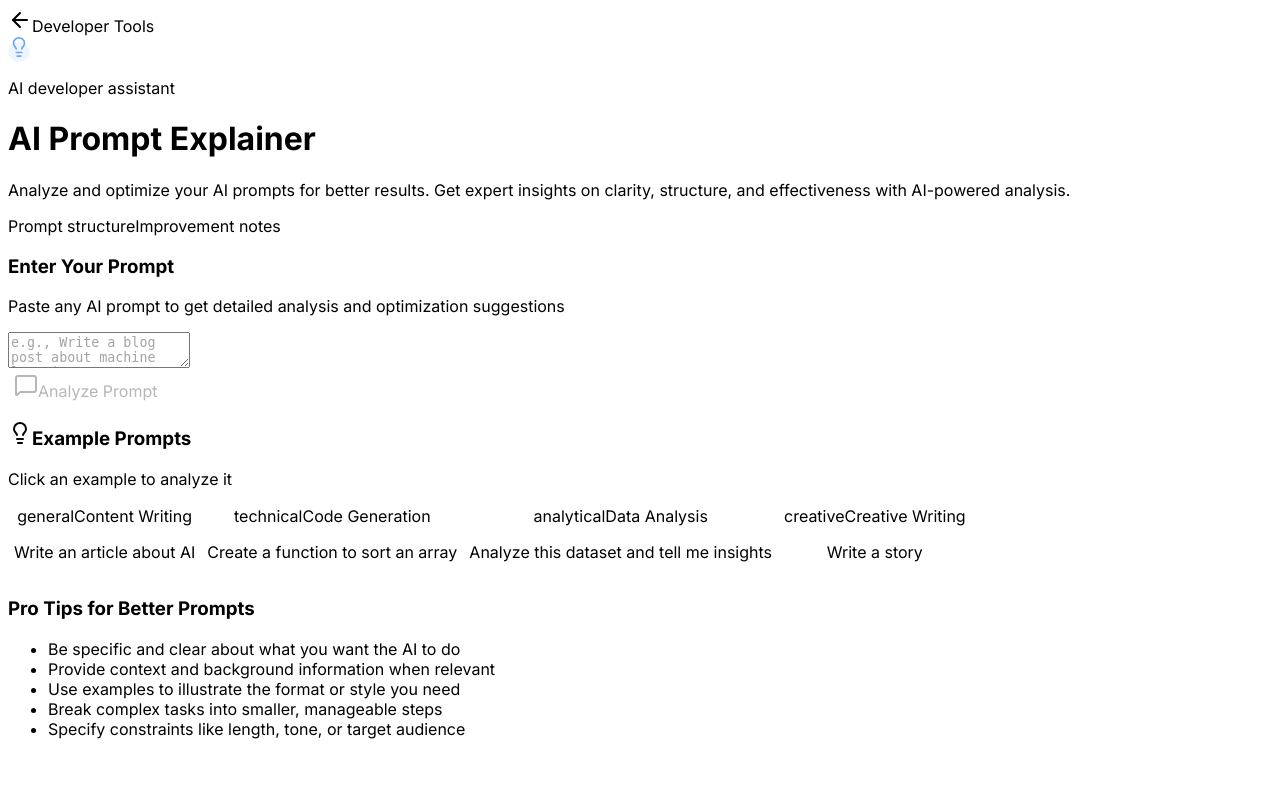
Scenario: AI Prompt Explainer - Prompt Analysis Tests › should analyze prompt successfully
The image size is (1280, 790).
Type "Write an article about AI" into the text box with placeholder "Write a blog post about machine learning". click: x=99, y=350
box: [8, 332, 190, 368]
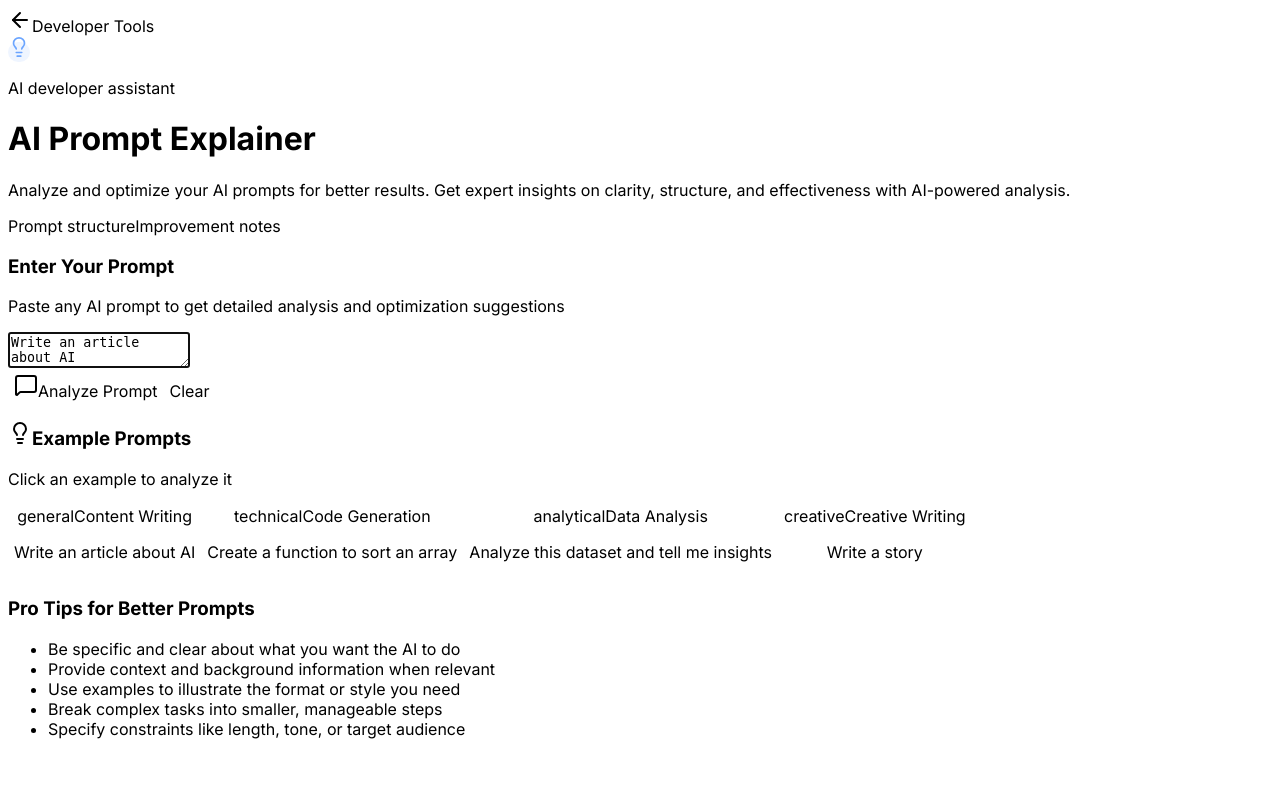
Click the button "Analyze Prompt". click: x=86, y=387
box: [8, 372, 164, 402]
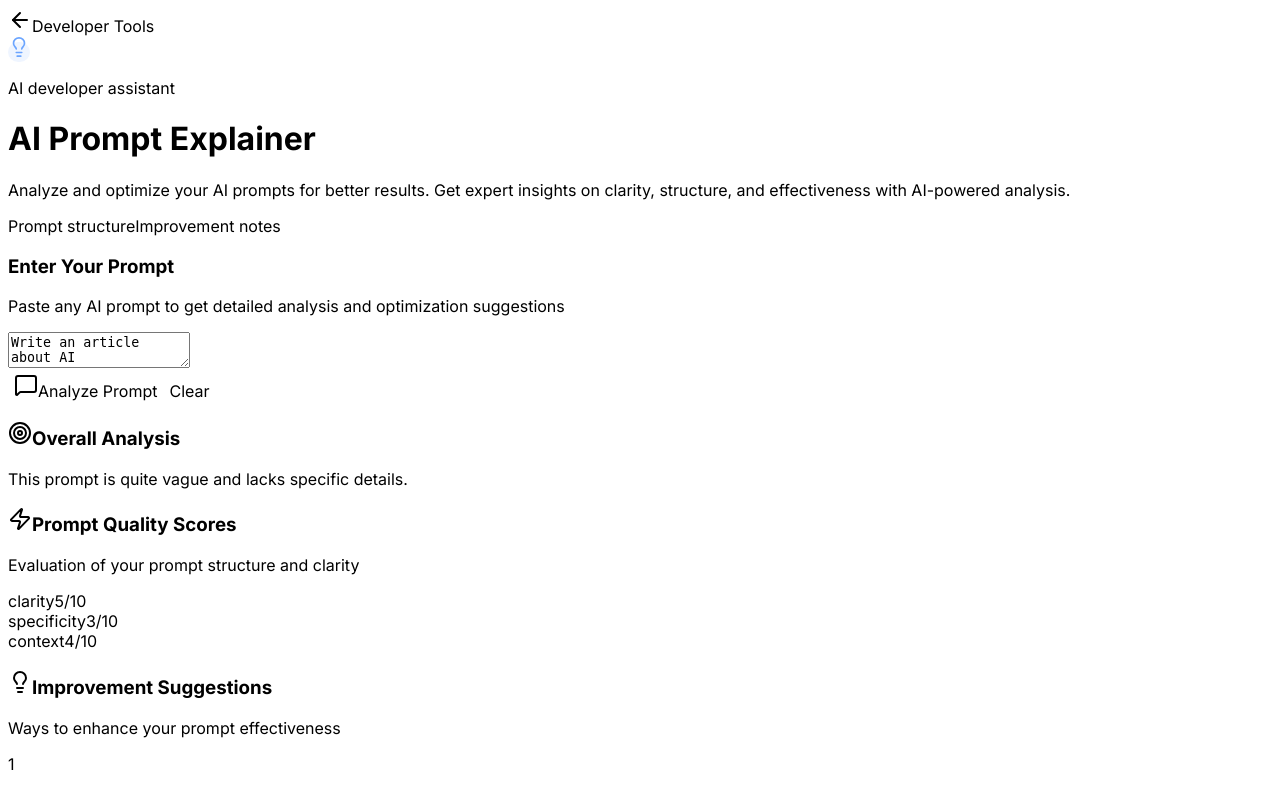
Expected: the text "This prompt is quite vague" is shown, [8, 469, 408, 489]
Expected: the text "Prompt Quality Scores" is shown, [8, 508, 236, 536]
